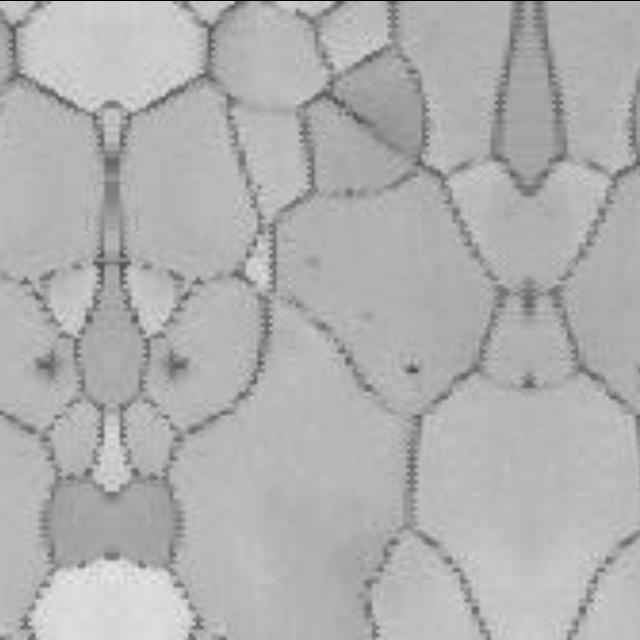good_void: (32, 343, 59, 379), (165, 344, 189, 379), (402, 358, 423, 380)
